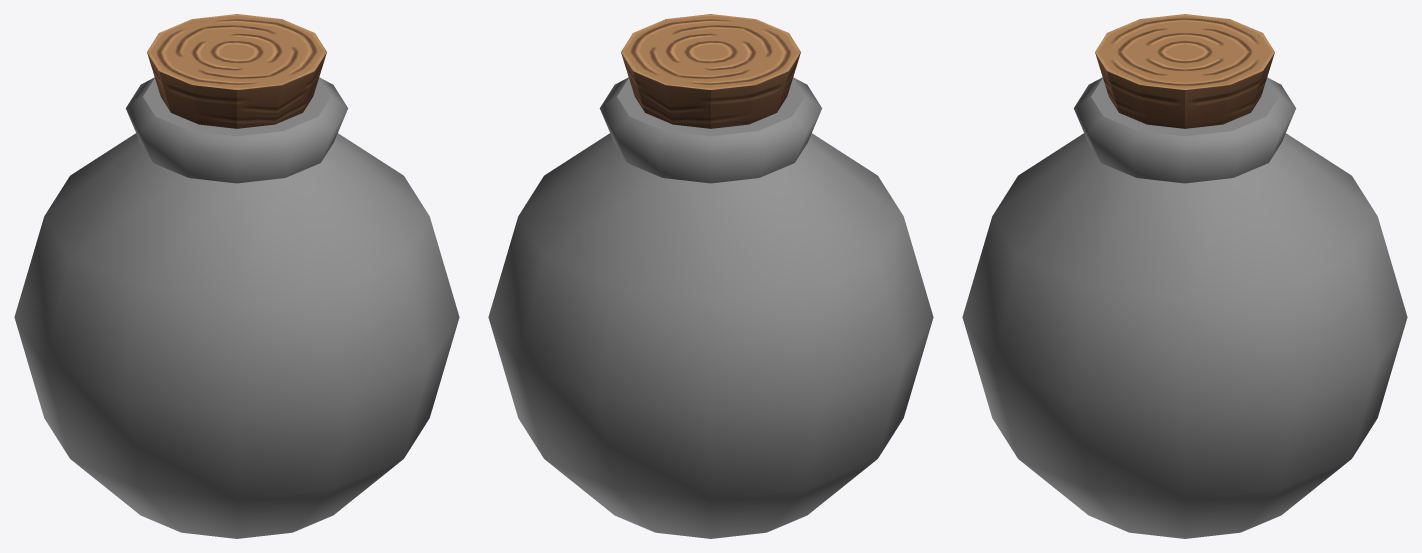
File: ENV2010001.fbx
3 renders of one model, left to right at view 1: azimuth 30°, elevation 25°; view 2: azimuth 150°, elevation 25°; view 3: azimuth 270°, elevation 25°, orthographic.
Parts seen in each view (by area): view 1: smENV2010001; view 2: smENV2010001; view 3: smENV2010001.
Boxes of the visible parts, left/top/right/bottom form: smENV2010001: left=14, top=14, right=459, bottom=538; smENV2010001: left=488, top=14, right=933, bottom=538; smENV2010001: left=962, top=14, right=1407, bottom=538.
Bounding box in the file's own units: 9.06 × 10.49 × 9.06.
1 material, 1 textured.
